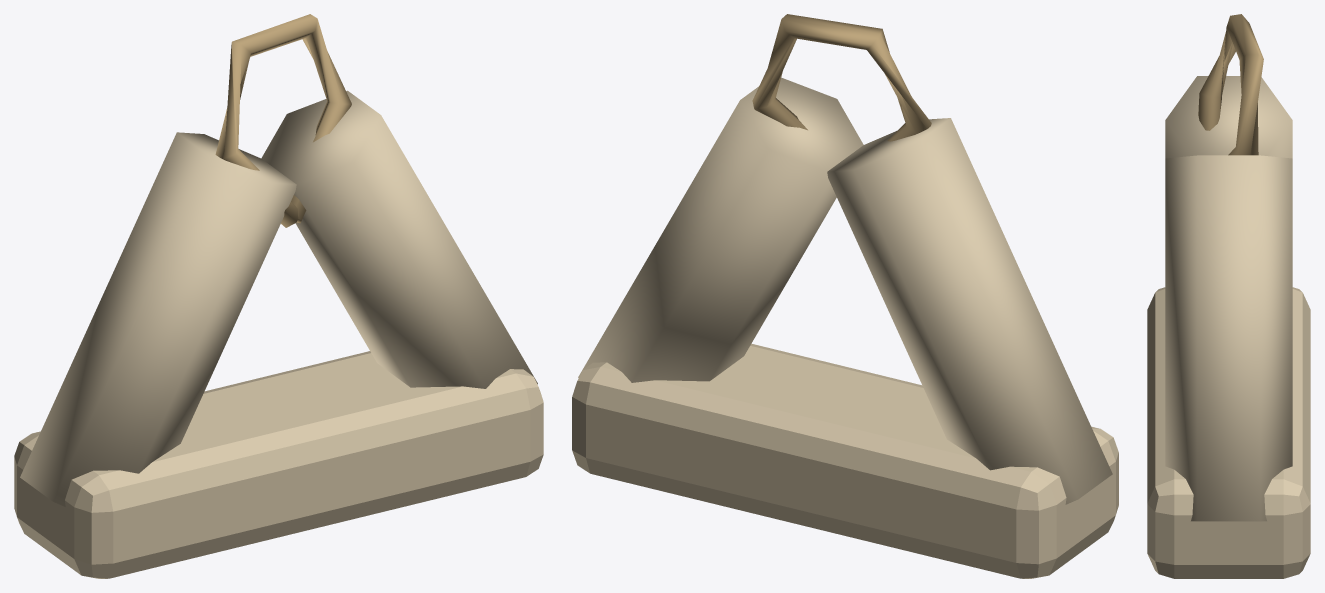
File: stone-anchor.glb
3 renders of one model, left to right at view 1: azimuth 30°, elevation 25°; view 2: azimuth 150°, elevation 25°; view 3: azimuth 270°, elevation 25°, orthographic. The views are drawn at different scales.
Parts seen in each view (by area): view 1: stone-anchor__limestone, stone-anchor__rope; view 2: stone-anchor__limestone, stone-anchor__rope; view 3: stone-anchor__limestone, stone-anchor__rope.
Part boxes in pixels (x1,y1,x2,y2): stone-anchor__limestone: [14, 90, 543, 578]; stone-anchor__rope: [215, 14, 351, 227]; stone-anchor__limestone: [572, 77, 1118, 578]; stone-anchor__rope: [752, 14, 931, 141]; stone-anchor__limestone: [1147, 76, 1310, 578]; stone-anchor__rope: [1198, 14, 1263, 155].
Size of the model in its own units: 1.17 by 1.09 by 0.36.
